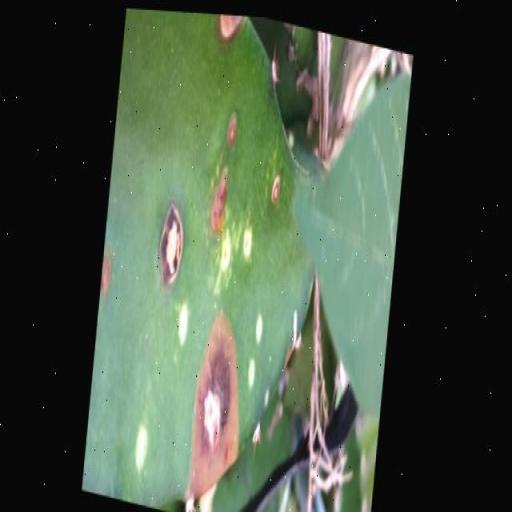stemcanker: (99, 364, 138, 402), (178, 330, 216, 360), (250, 242, 278, 266), (180, 202, 206, 224), (209, 200, 232, 224), (307, 299, 330, 321), (290, 210, 312, 230)
